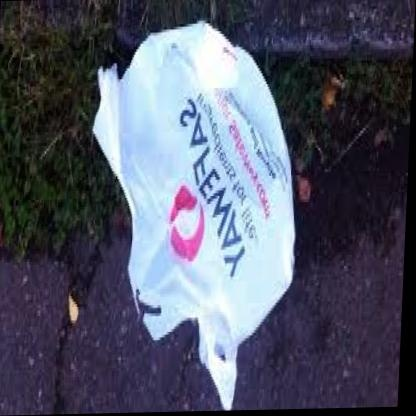trash: (93, 22, 294, 409)
